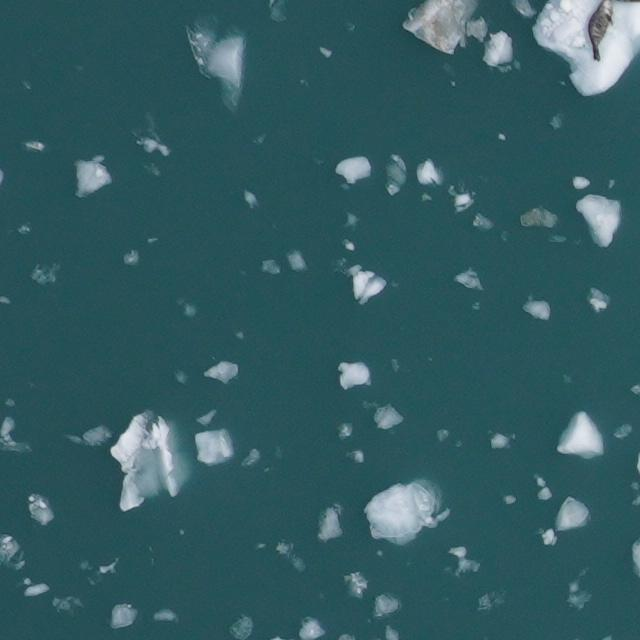seal: (587, 0, 612, 62)
